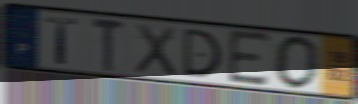D: (181, 26, 224, 79)
E: (227, 28, 273, 89)
O: (273, 34, 321, 92)
T: (90, 16, 128, 74), (44, 14, 81, 66)
X: (133, 21, 179, 79)
